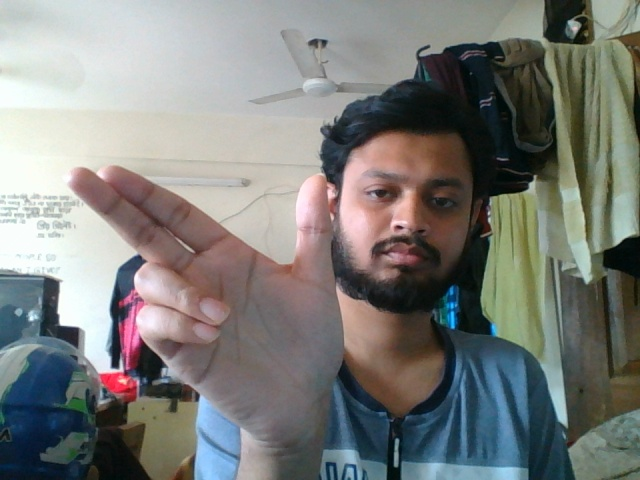jha: (50, 162, 347, 424)
